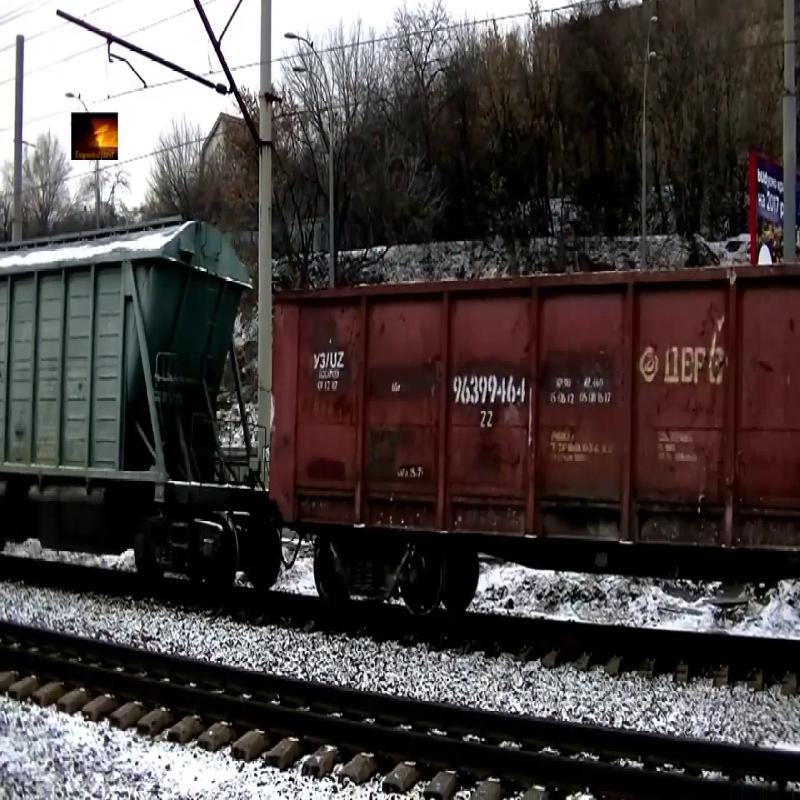train: (268, 261, 800, 573), (1, 214, 253, 536)
